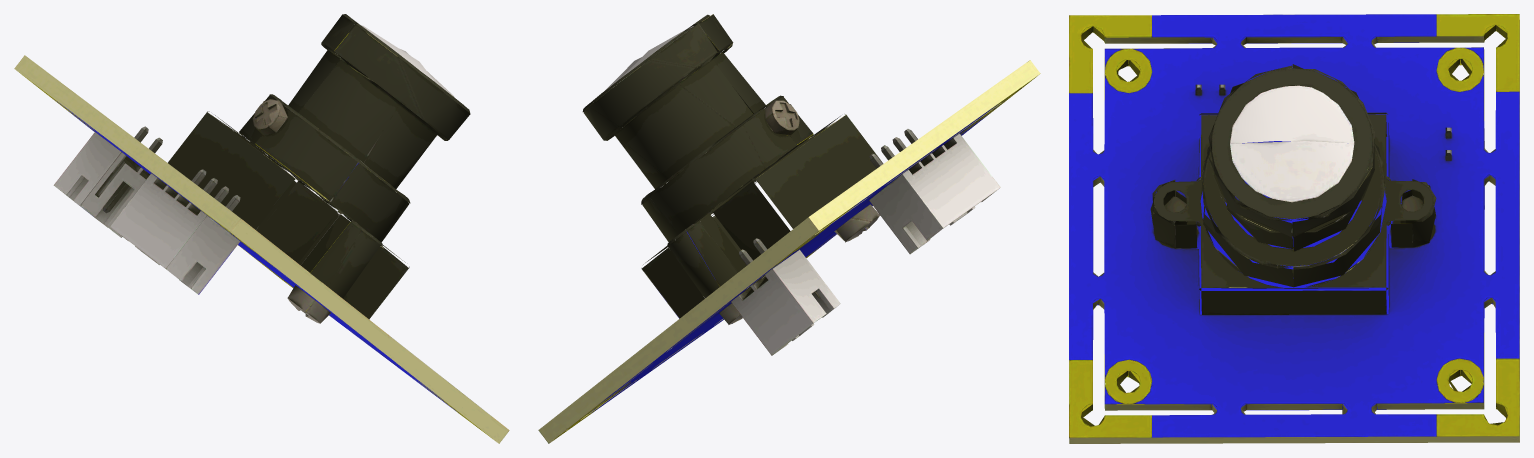
File: usbcam.dae
The picture shows the model from 3 angles, left to right: view 1: azimuth 30°, elevation 25°; view 2: azimuth 150°, elevation 25°; view 3: azimuth 270°, elevation 25°; orthographic projection. The views are drawn at different scales.
Visible parts, largest first — view 1: tmp_export_usbcam; view 2: tmp_export_usbcam; view 3: tmp_export_usbcam.
Part boxes in pixels (box(x1,y1,x2,y2)): tmp_export_usbcam: box(14, 14, 509, 443); tmp_export_usbcam: box(538, 14, 1040, 443); tmp_export_usbcam: box(1069, 14, 1519, 443).
Bounding box in the file's own units: 0.0348 × 0.038 × 0.0337.
Materials: 1 (1 with a texture image).
